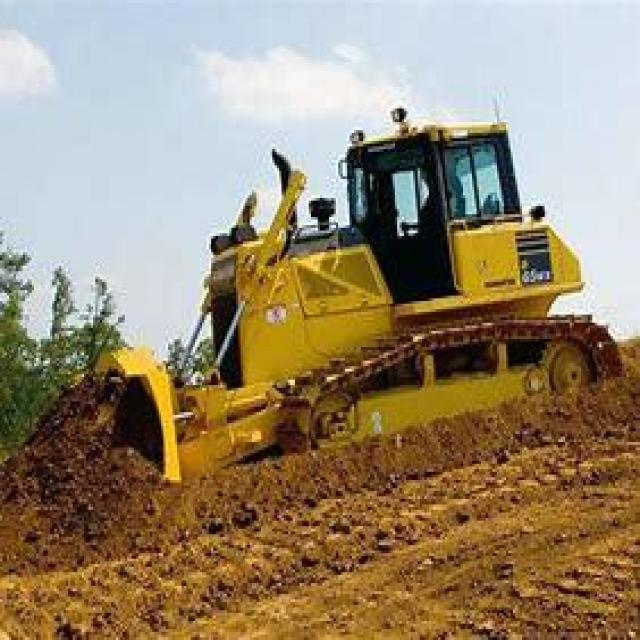Bulldozer: (30, 98, 638, 488)
